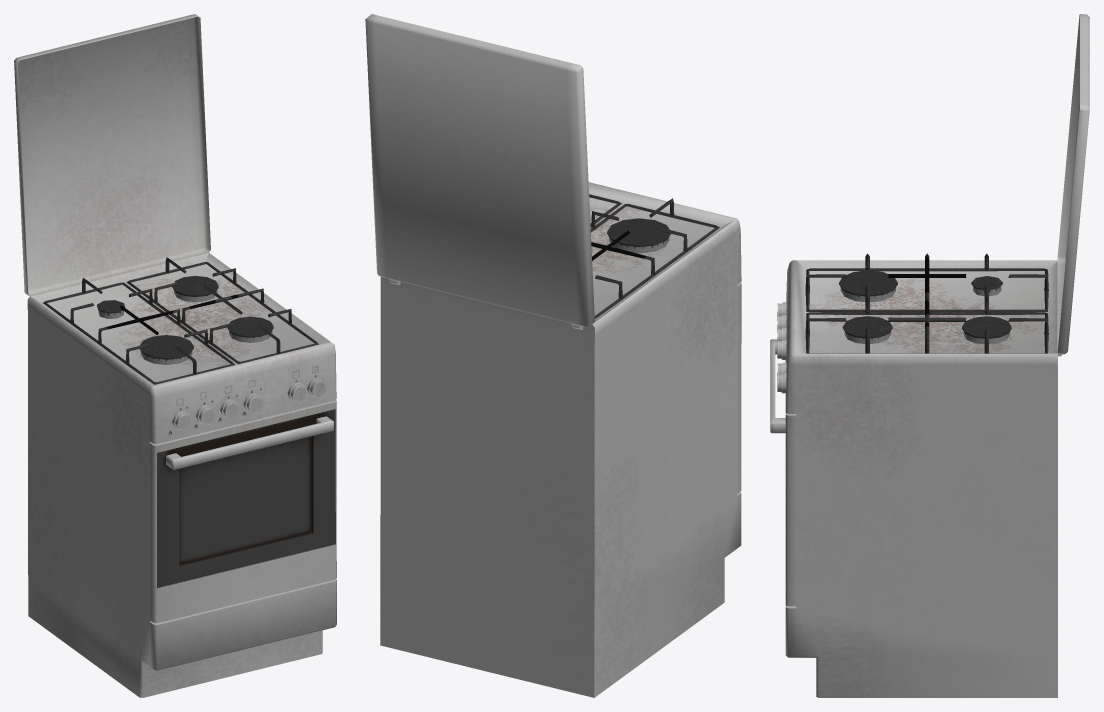
File: obj_gas_stove_bcab82.glb
The picture shows the model from 3 angles, left to right: view 1: azimuth 30°, elevation 25°; view 2: azimuth 150°, elevation 25°; view 3: azimuth 270°, elevation 25°; orthographic projection. The views are drawn at different scales.
Parts seen in each view (by area): view 1: obj_gas_stove_bcab82; view 2: obj_gas_stove_bcab82; view 3: obj_gas_stove_bcab82.
Part boxes in pixels (x1,y1,x2,y2): obj_gas_stove_bcab82: (14, 14, 336, 697); obj_gas_stove_bcab82: (365, 14, 741, 697); obj_gas_stove_bcab82: (770, 14, 1089, 697).
Bounding box in the file's own units: 0.3155 × 0.9 × 0.4423.
Materials: 1 (1 with a texture image).
